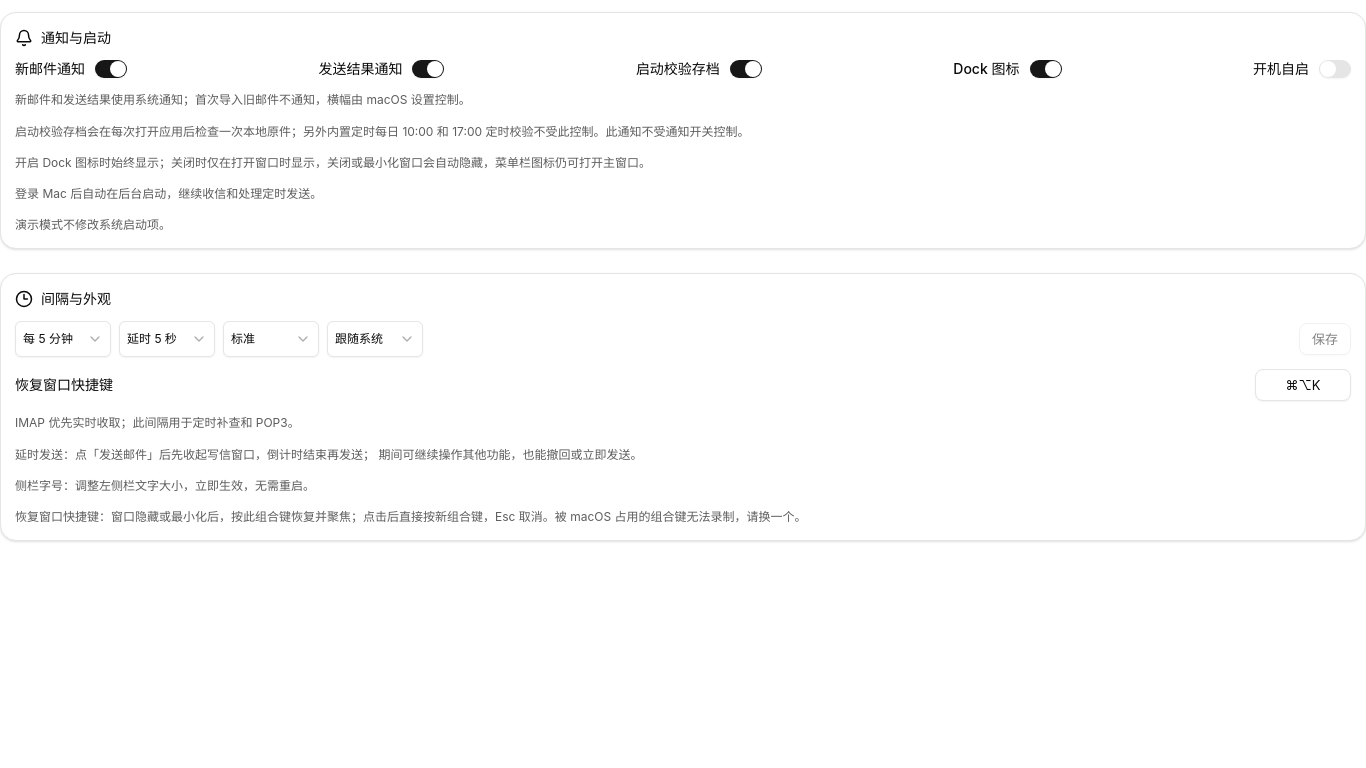
Test: records a global restore-window shortcut and saves it through the dedicated command
Click the button named "恢复窗口快捷键" at (1303, 385), box left=1255, top=369, right=1351, bottom=401
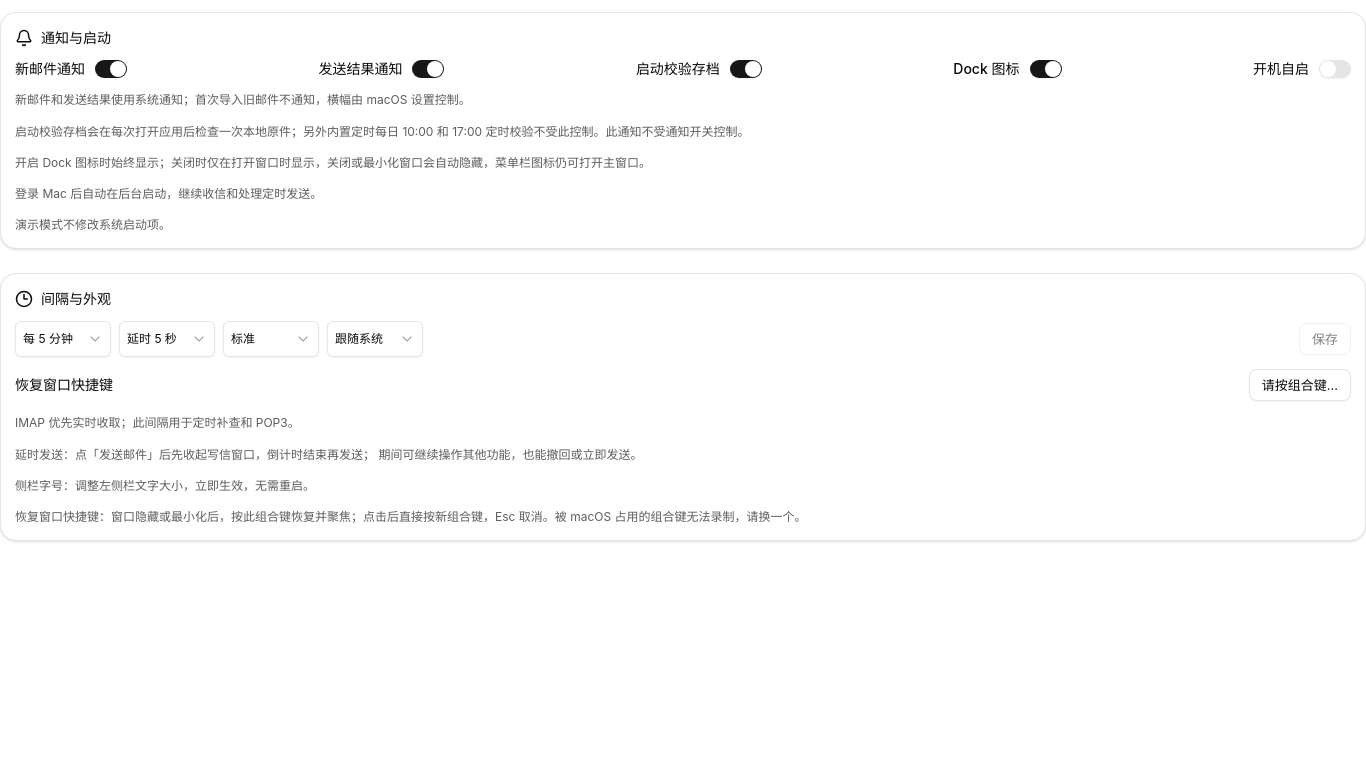
expect the button with aria-label "恢复窗口快捷键" reads "请按组合键…": met
Press M in the button with aria-label "恢复窗口快捷键", box left=1249, top=369, right=1351, bottom=401
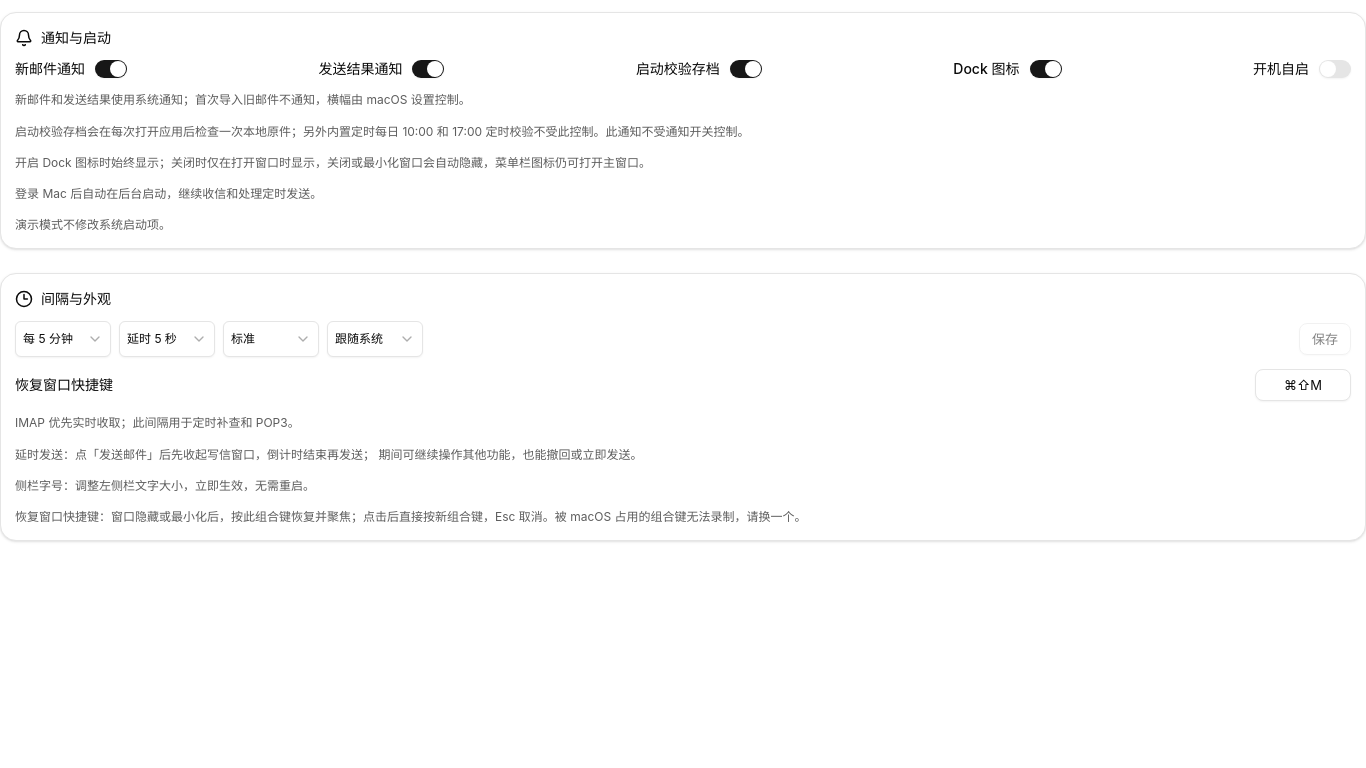
expect the button named "恢复窗口快捷键" reads "⌘⇧M": met, box left=1255, top=369, right=1351, bottom=401
